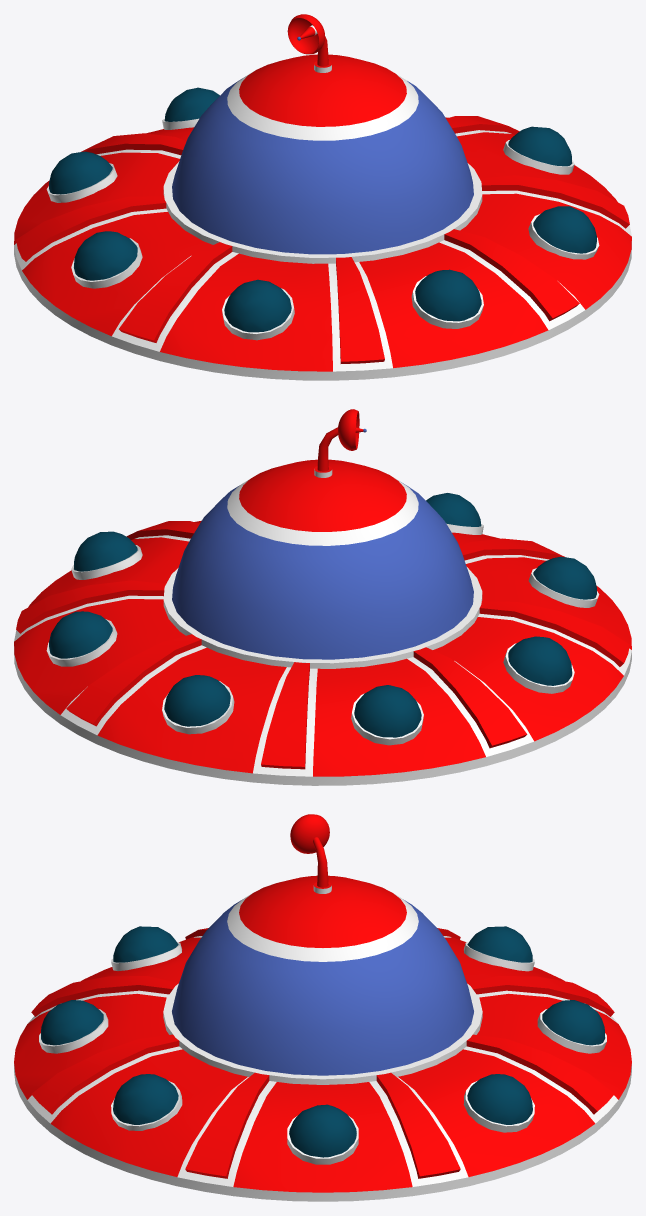
Rendered from retroufo_red_lowpoly.dae.
The picture shows the model from 3 angles, top to bottom: view 1: azimuth 30°, elevation 25°; view 2: azimuth 150°, elevation 25°; view 3: azimuth 270°, elevation 25°; orthographic projection.
Parts seen in each view (by area): view 1: Cylinder02 (×2), Sphere09 (×3), Sphere03 (×2), Sphere05 (×2), Sphere01 (×2), Sphere07 (×2), Sphere08 (×2), Sphere02 (×2), Sphere06, Sphere24; view 2: Cylinder02 (×2), Sphere09 (×3), Sphere08 (×2), Sphere06 (×2), Sphere01 (×2), Sphere04 (×2), Sphere03 (×2), Sphere02 (×2), Sphere05, Sphere24; view 3: Cylinder02 (×2), Sphere09 (×3), Sphere02 (×2), Sphere04 (×2), Sphere07 (×2), Sphere05 (×2), Sphere06 (×2), Sphere08 (×2), Sphere03 (×2), Sphere24, Cylinder01.
Boxes of the visible parts, x1,y1,x2,y2 form: Cylinder02 (×2): (14,116,631,380); Sphere09 (×3): (163,54,482,263); Sphere03 (×2): (222,279,294,340); Sphere05 (×2): (411,269,483,328); Sphere01 (×2): (71,231,142,288); Sphere07 (×2): (528,206,599,259); Sphere08 (×2): (46,151,117,202); Sphere02 (×2): (503,126,574,174); Sphere06: (164,87,219,121); Sphere24: (287,14,325,54); Cylinder02 (×2): (14,520,631,785); Sphere09 (×3): (163,459,482,668); Sphere08 (×2): (351,685,423,745); Sphere06 (×2): (162,675,234,734); Sphere01 (×2): (503,636,574,693); Sphere04 (×2): (46,611,117,666); Sphere03 (×2): (528,556,599,607); Sphere02 (×2): (71,531,142,579); Sphere05: (426,493,481,526); Sphere24: (338,409,359,450); Cylinder02 (×2): (14,928,631,1201); Sphere09 (×3): (163,875,482,1084); Sphere02 (×2): (287,1104,358,1164); Sphere04 (×2): (463,1074,534,1132); Sphere07 (×2): (111,1074,182,1130); Sphere05 (×2): (39,1000,108,1053); Sphere06 (×2): (537,1000,606,1053); Sphere08 (×2): (464,926,534,971); Sphere03 (×2): (111,926,181,970); Sphere24: (290,814,329,853); Cylinder01: (313,837,331,888).
Bounding box in the file's own units: 14.63 × 8.27 × 14.63.
